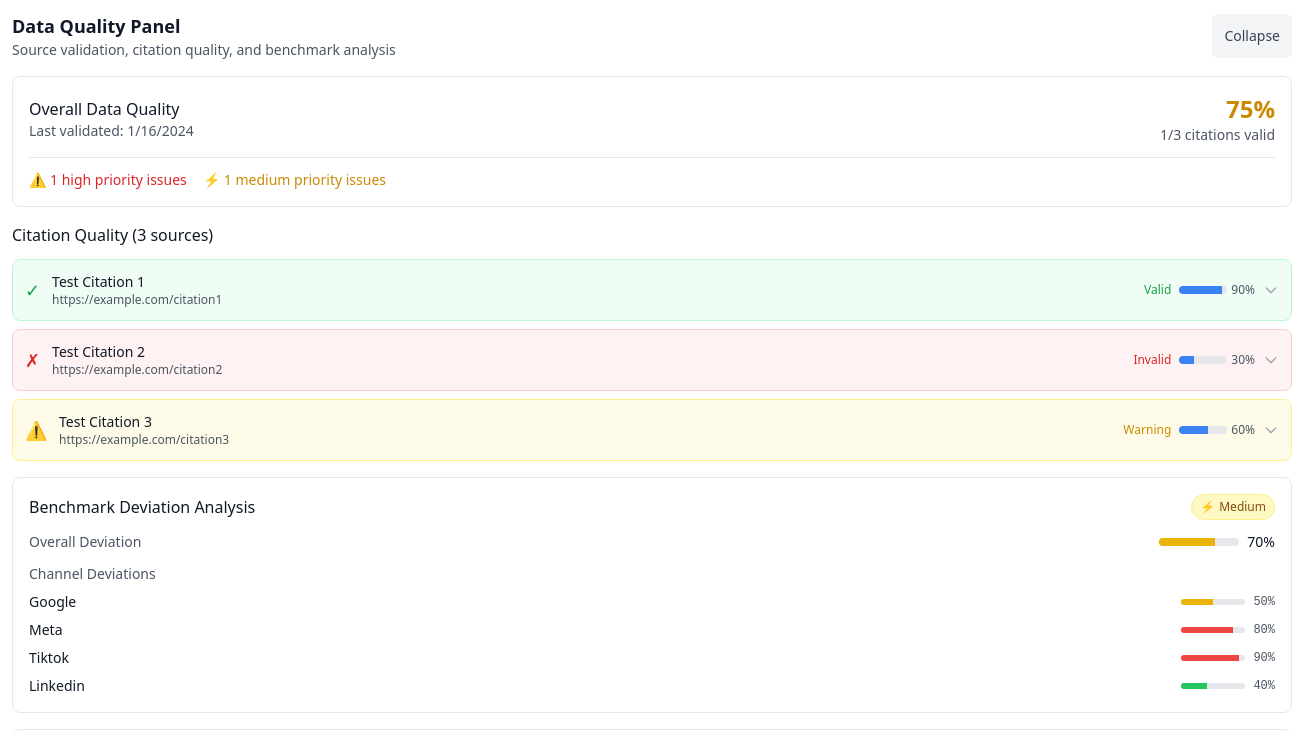
Test: DataQualityPanel › Citation Quality › shows issues when citation has problems
Click the button "Test Citation 2".
click(99, 352)  # box [25,342,1279,378]
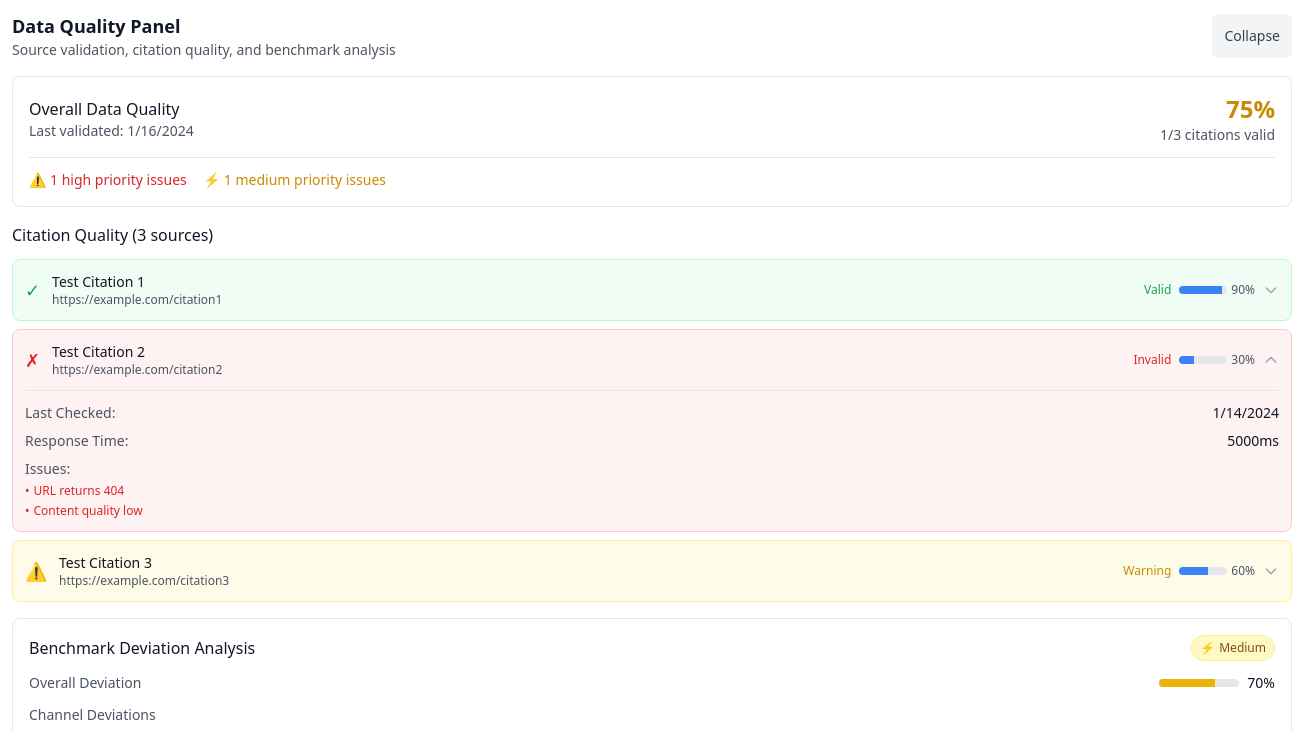
Expected: the text "Issues:" is shown, [25,459,70,478]
Expected: the list item "URL returns 404" is shown, [34,482,124,499]
Expected: the list item "Content quality low" is shown, [34,502,143,519]
